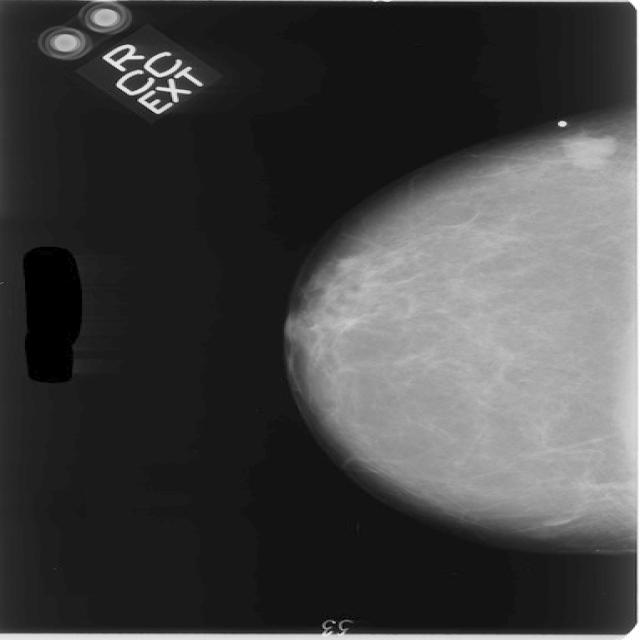tumour: (558, 133, 615, 168)
